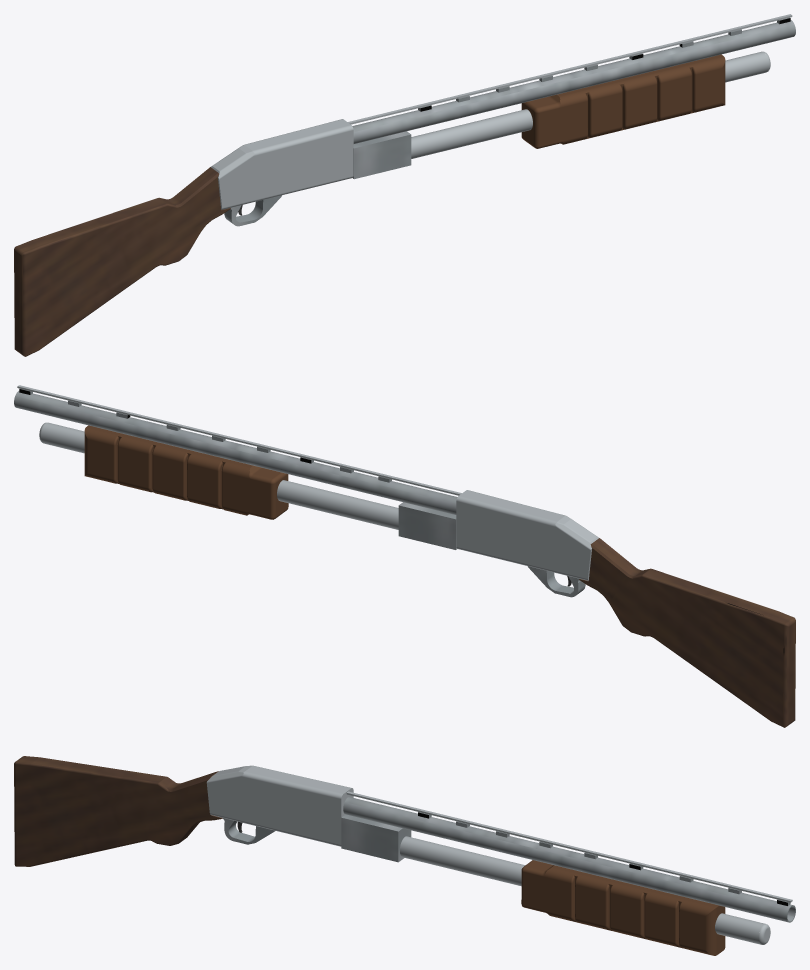
The model's file is SHOTGUN.glb.
3 views of the same model, one above another, from view 1: azimuth 30°, elevation 25°; view 2: azimuth 150°, elevation 25°; view 3: azimuth 330°, elevation 25° (orthographic).
Bounding box in the file's own units: 0.0446 × 0.00837 × 0.00164.
10 materials, 4 textured.
